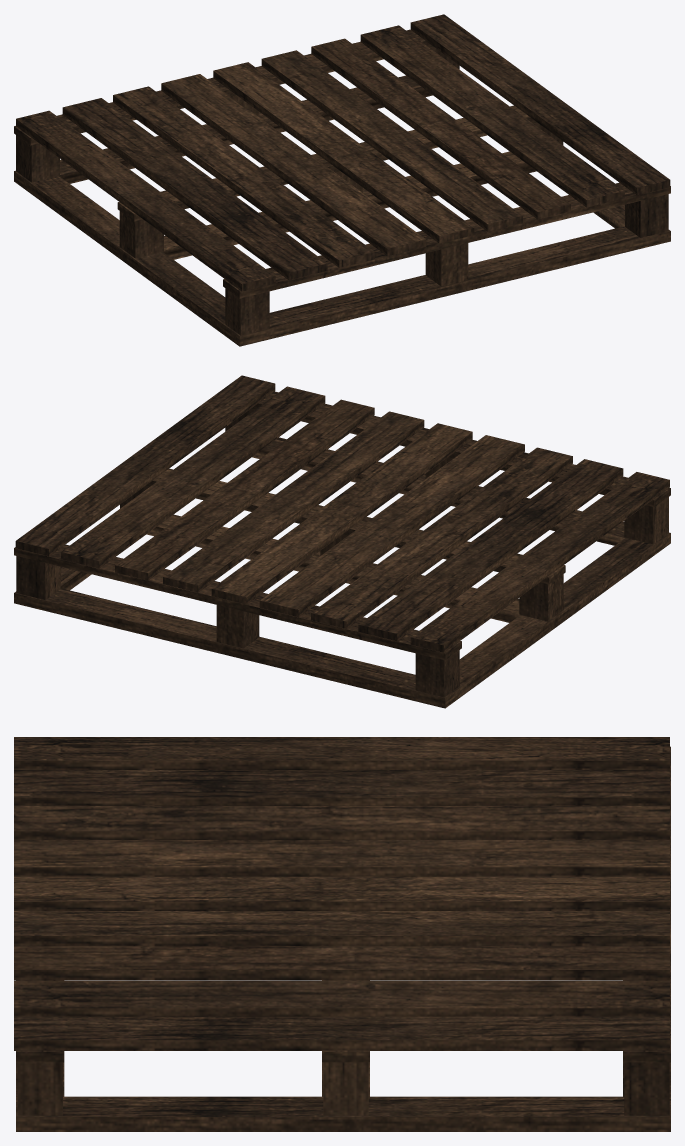
Rendered from wood_pallet_2.obj.
3 renders of one model, top to bottom at view 1: azimuth 30°, elevation 25°; view 2: azimuth 150°, elevation 25°; view 3: azimuth 270°, elevation 25°, orthographic. The views are drawn at different scales.
Visible parts, largest first — view 1: wood_pallet_2; view 2: wood_pallet_2; view 3: wood_pallet_2.
Part boxes in pixels (x1,y1,x2,y2): wood_pallet_2: (14, 14, 670, 346); wood_pallet_2: (14, 375, 670, 708); wood_pallet_2: (14, 737, 670, 1131).
Bounding box in the file's own units: 1.44 × 0.1995 × 1.31.
